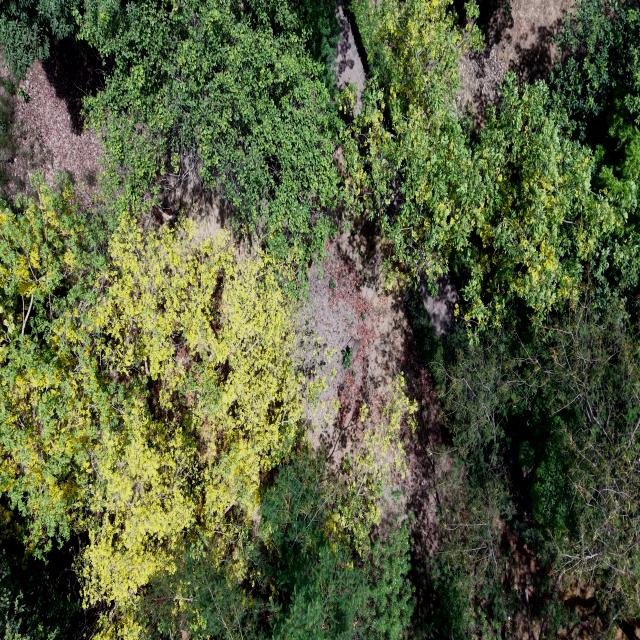DRY_AREA: (297, 223, 450, 614), (298, 223, 449, 612), (298, 220, 448, 609), (299, 222, 449, 611), (297, 223, 448, 609), (297, 222, 448, 608), (300, 223, 446, 461), (297, 224, 441, 464), (305, 231, 446, 458), (298, 225, 418, 458), (0, 38, 107, 206), (0, 38, 102, 204), (0, 38, 102, 202), (458, 0, 572, 125), (458, 0, 572, 124), (460, 0, 572, 124), (309, 227, 409, 342), (480, 0, 571, 82), (41, 38, 103, 135), (178, 186, 259, 259), (499, 522, 545, 639), (500, 525, 546, 611), (335, 0, 365, 110), (173, 185, 230, 239), (417, 274, 460, 338), (556, 582, 603, 639), (557, 582, 602, 639), (563, 584, 601, 638), (615, 619, 639, 639), (619, 620, 639, 639)
VEGETATION_TREE: (0, 0, 639, 639), (0, 184, 409, 637), (355, 0, 639, 637), (343, 2, 635, 329), (407, 291, 639, 637), (78, 0, 341, 263), (435, 293, 639, 629), (141, 443, 412, 639), (451, 74, 624, 327), (0, 184, 111, 555), (340, 0, 480, 280), (254, 450, 411, 639), (551, 0, 639, 299), (416, 449, 523, 638), (551, 0, 639, 146), (0, 542, 79, 639), (0, 0, 75, 78), (0, 80, 16, 161)
